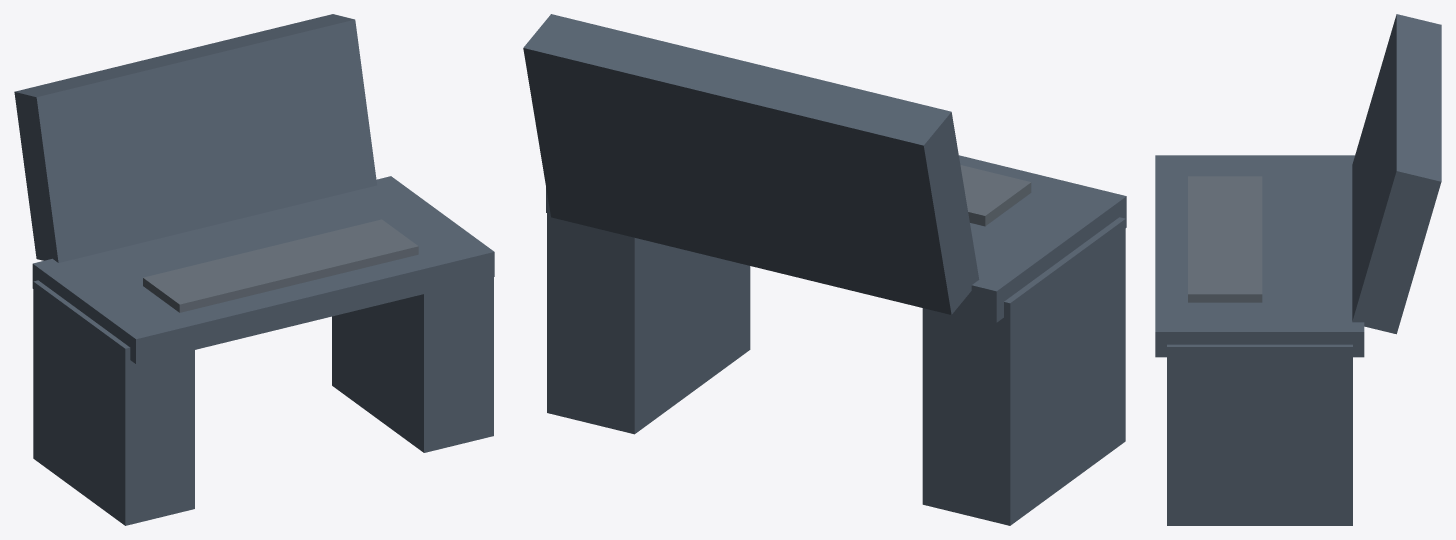
Rendered from Lab_Console_A.fbx.
The picture shows the model from 3 angles, left to right: view 1: azimuth 30°, elevation 25°; view 2: azimuth 150°, elevation 25°; view 3: azimuth 270°, elevation 25°; orthographic projection. The views are drawn at different scales.
Parts seen in each view (by area): view 1: Lab_Console_A; view 2: Lab_Console_A; view 3: Lab_Console_A.
Part boxes in pixels (x1=…): Lab_Console_A: x1=14, y1=14, x2=494, y2=525; Lab_Console_A: x1=523, y1=14, x2=1126, y2=525; Lab_Console_A: x1=1155, y1=14, x2=1441, y2=525.
Bounding box in the file's own units: 1.85 × 1.63 × 1.23.
